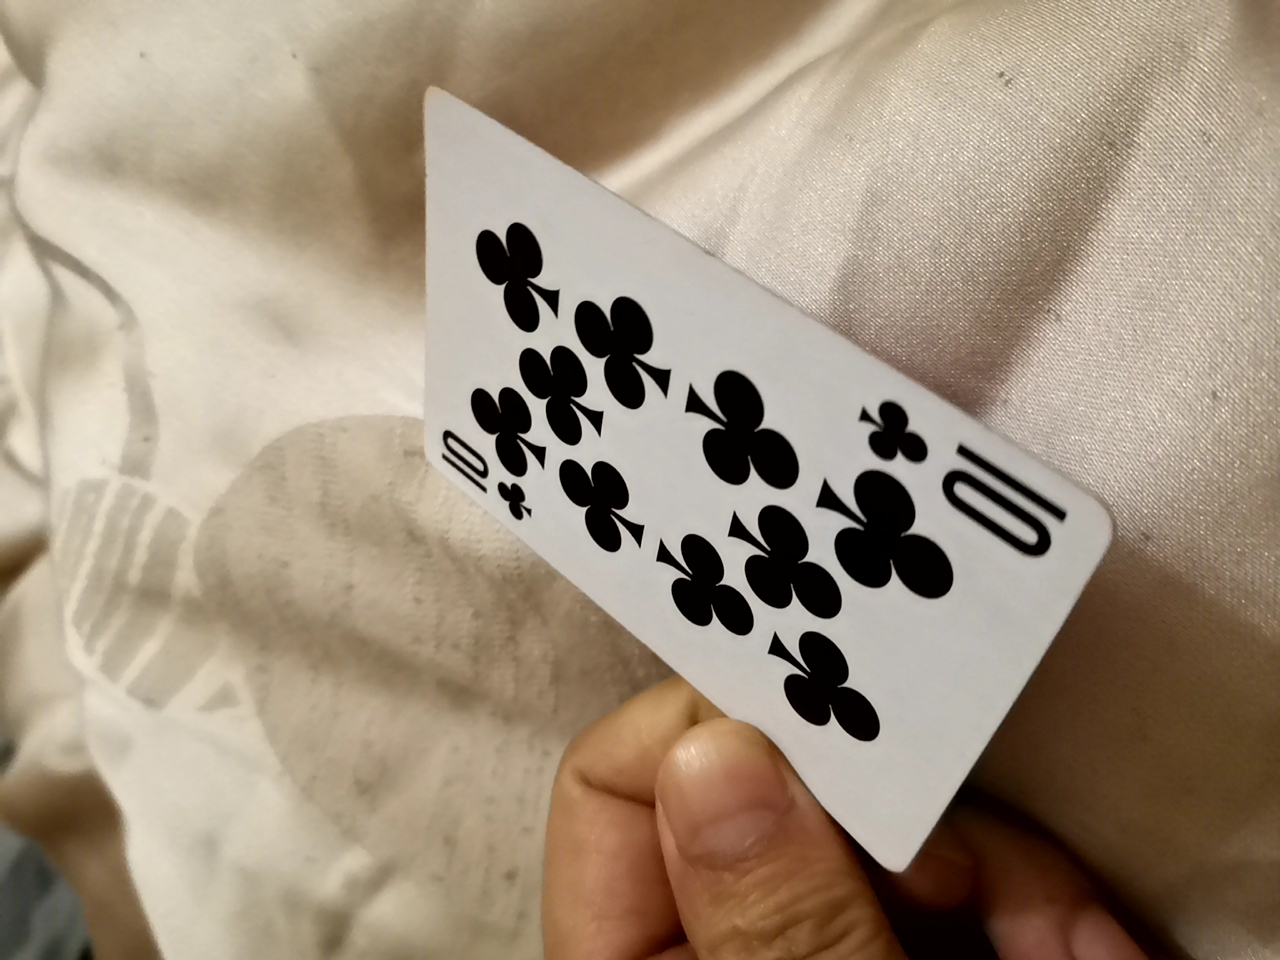mh 10: (403, 91, 1100, 882)
